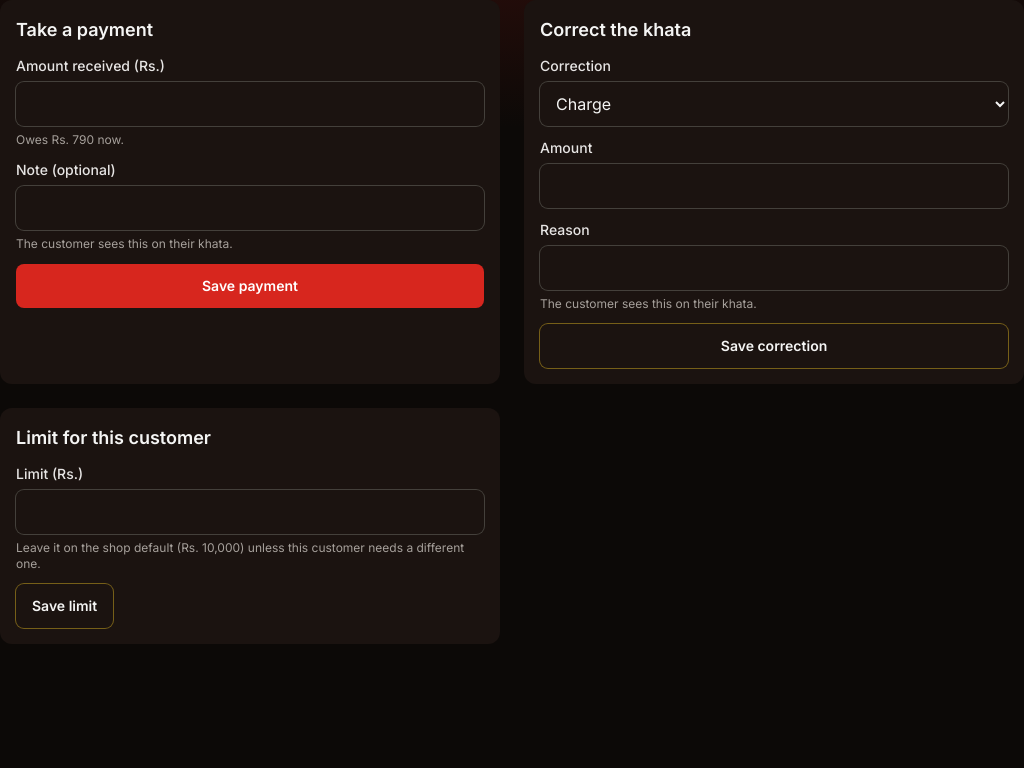
Test: khata actions › a write-off refused because the balance moved reloads the page
Select "Written off" in the dropdown labelled "Correction": [774, 104] box x1=540 y1=82 x2=1008 y2=126
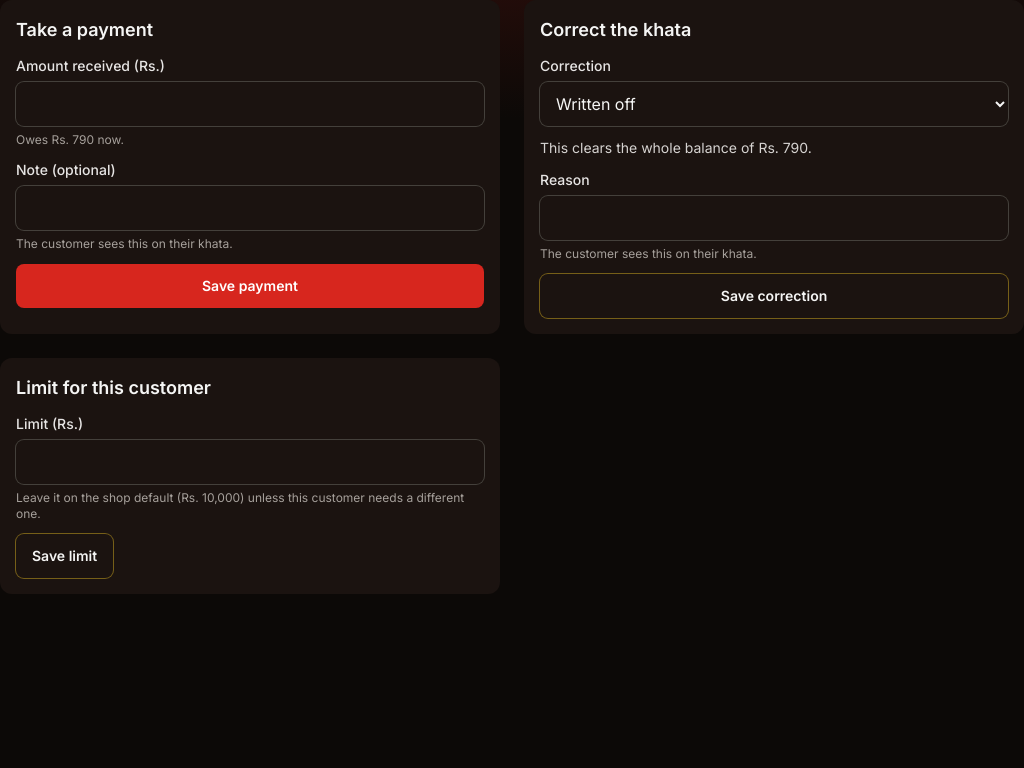
In the field labelled "Reason": [774, 218] box x1=540 y1=196 x2=1008 y2=240, type "Goodwill"
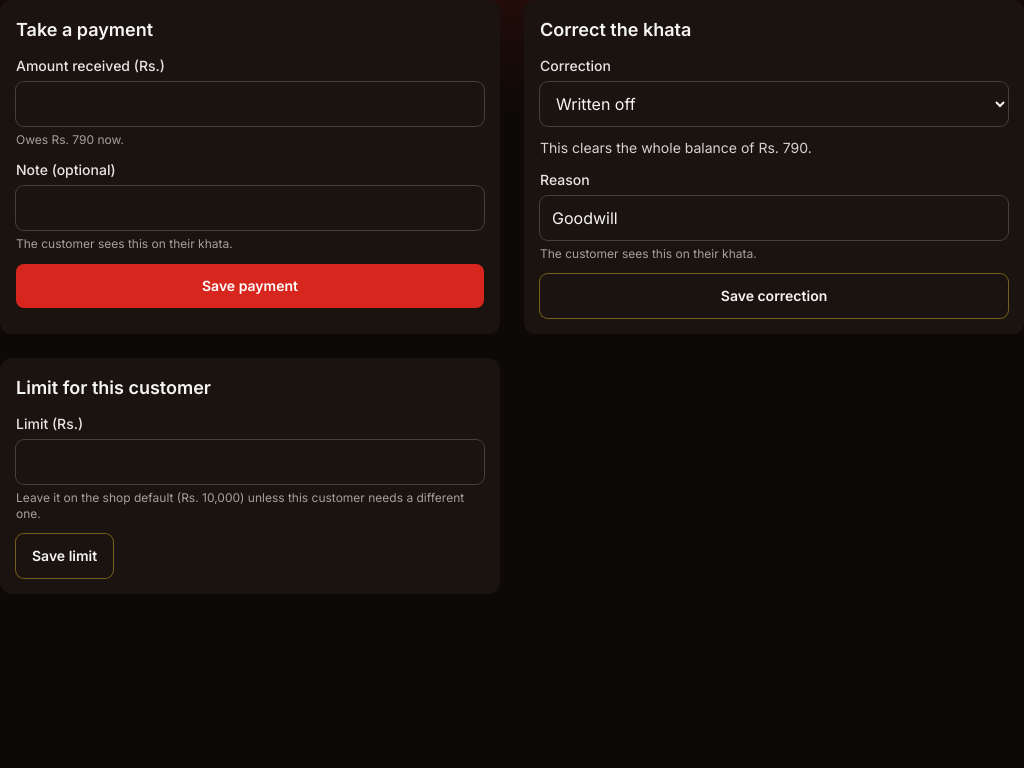
Click the button "Save correction": [774, 296] box x1=540 y1=274 x2=1008 y2=318
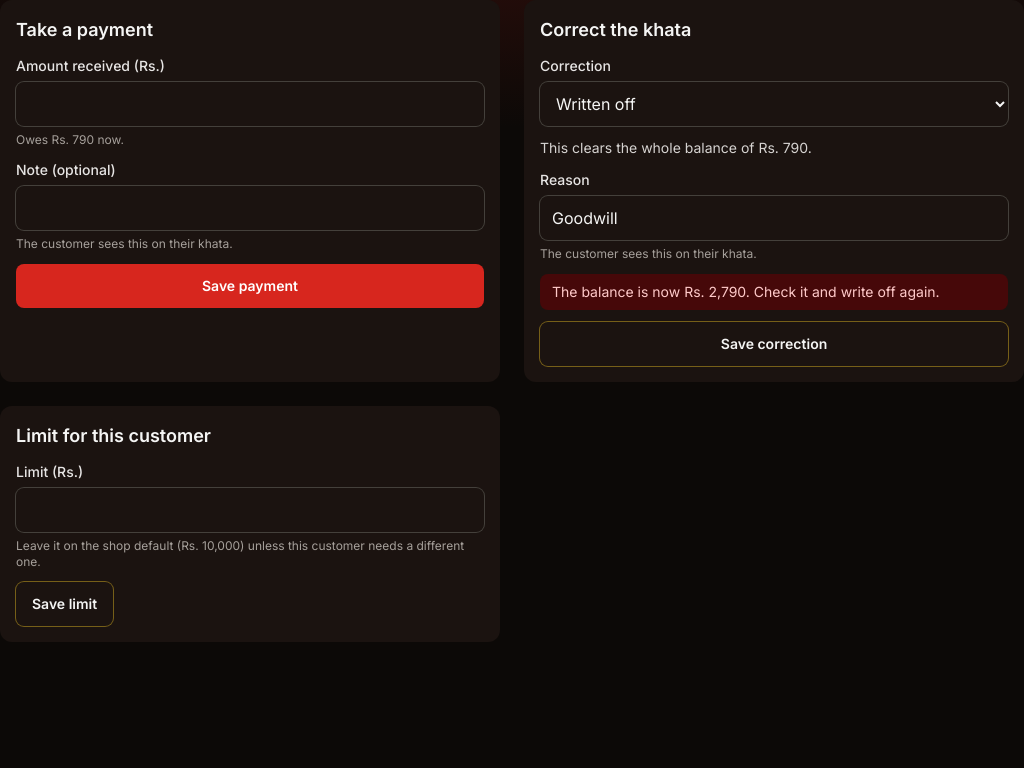
Now the text "The balance is now Rs. 2,790. Check it and write off again." is shown, box x1=540 y1=274 x2=1008 y2=310
